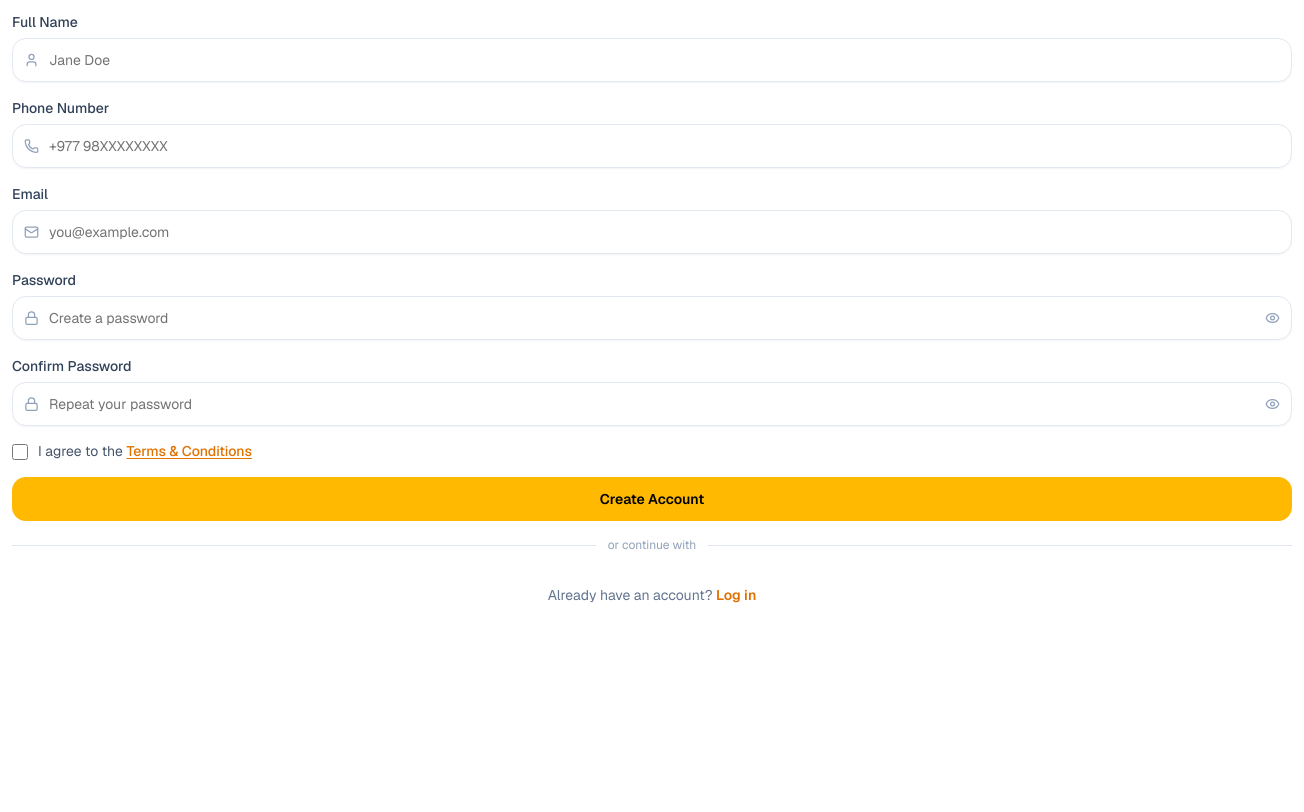
Test case: RegisterForm › shows empty field errors when form submitted with no data at all
Click the button "Create Account" at (652, 499), box left=12, top=477, right=1292, bottom=521
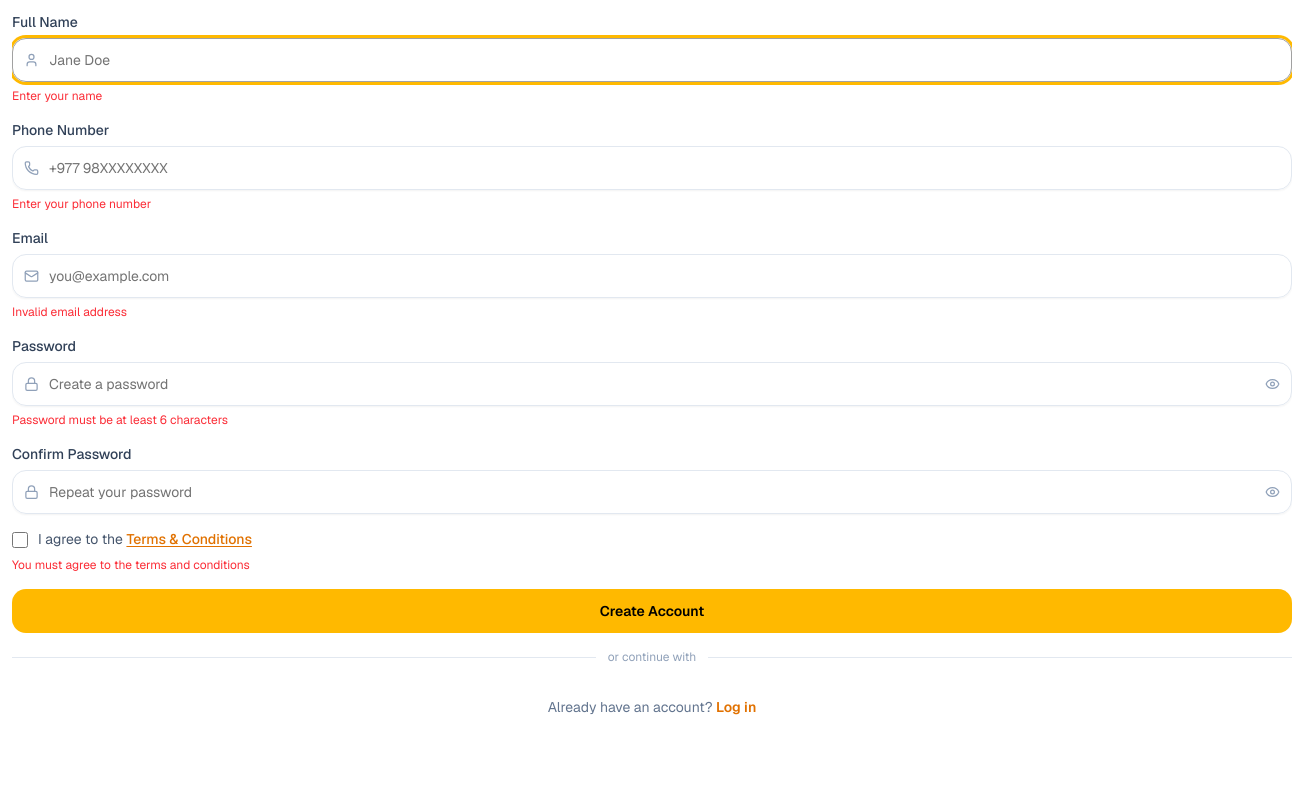
Check: the text "Enter your name" is shown, box left=12, top=88, right=102, bottom=104
